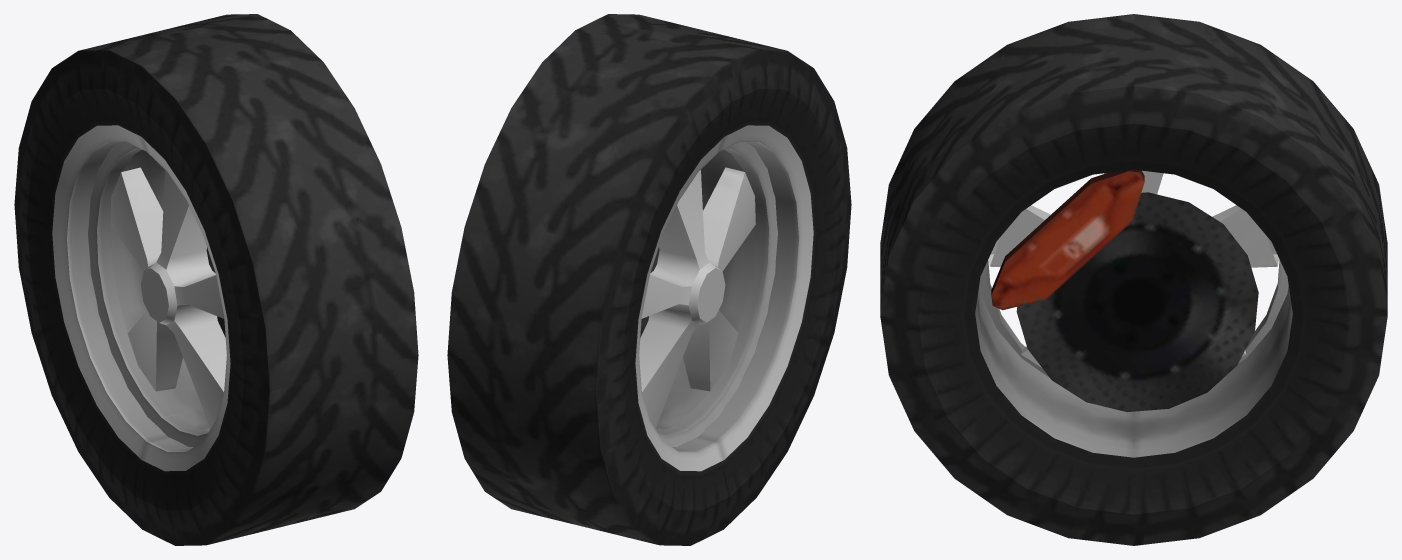
Rendered from Wheel4.fbx.
3 renders of one model, left to right at view 1: azimuth 30°, elevation 25°; view 2: azimuth 150°, elevation 25°; view 3: azimuth 270°, elevation 25°, orthographic.
Visible parts, largest first — view 1: Tire, Metal; view 2: Tire, Metal; view 3: Tire, Disc, Metal.
Part boxes in pixels (x1,y1,x2,y2): Tire: (14, 14, 418, 545); Metal: (52, 125, 230, 471); Tire: (447, 14, 851, 545); Metal: (635, 125, 813, 471); Tire: (880, 14, 1387, 545); Disc: (991, 169, 1258, 411); Metal: (975, 170, 1292, 457).
Bounding box in the file's own units: 20.29 × 55.46 × 55.46.
